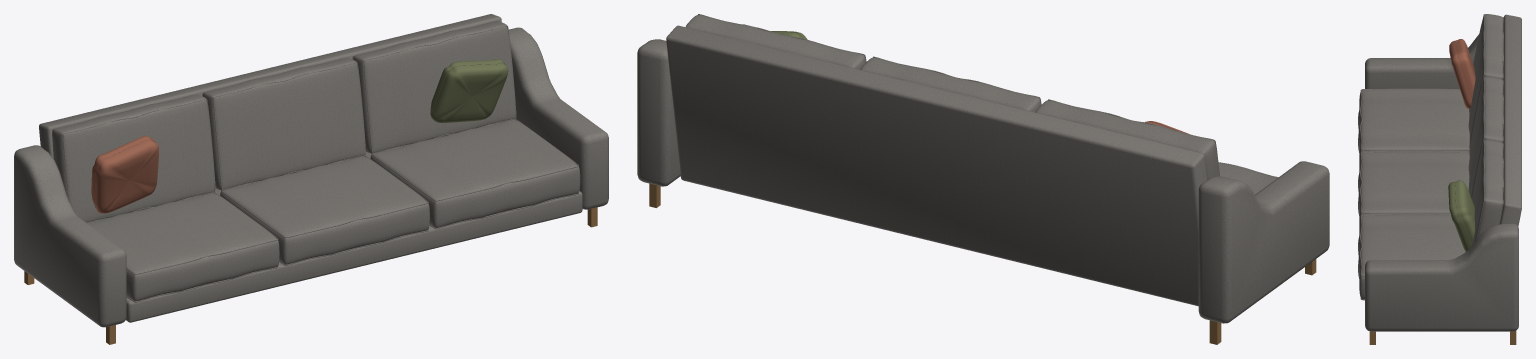
File: sofa.glb
3 views of the same model, side by side, from view 1: azimuth 30°, elevation 25°; view 2: azimuth 150°, elevation 25°; view 3: azimuth 270°, elevation 25° (orthographic). The views are drawn at different scales.
Parts seen in each view (by area): view 1: Photographic wool herringbone, Clay scatter-cushion fabric, Moss scatter-cushion fabric, Oiled timber sofa feet; view 2: Photographic wool herringbone, Oiled timber sofa feet; view 3: Photographic wool herringbone, Moss scatter-cushion fabric, Clay scatter-cushion fabric, Oiled timber sofa feet.
Boxes of the visible parts, box(x1,y1,x2,y2) form: Photographic wool herringbone: box(14, 14, 608, 327); Clay scatter-cushion fabric: box(91, 135, 158, 213); Moss scatter-cushion fabric: box(430, 59, 508, 122); Oiled timber sofa feet: box(24, 207, 597, 344); Photographic wool herringbone: box(637, 14, 1329, 323); Oiled timber sofa feet: box(649, 183, 1316, 344); Photographic wool herringbone: box(1358, 14, 1521, 331); Moss scatter-cushion fabric: box(1448, 180, 1474, 251); Clay scatter-cushion fabric: box(1449, 39, 1475, 109); Oiled timber sofa feet: box(1369, 331, 1516, 344).
Size of the model in its own units: 2.75 by 0.8176 by 0.8914.
4 materials, 3 textured.
